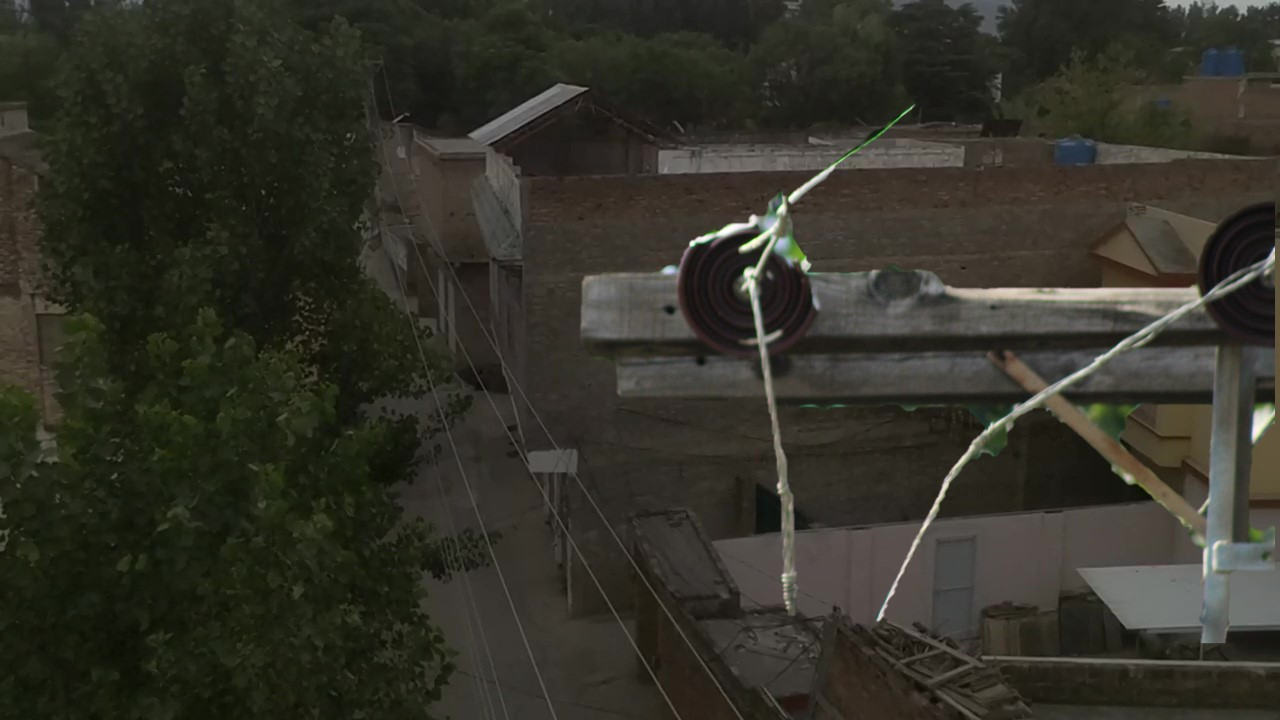defect_disc: (671, 205, 825, 364)
